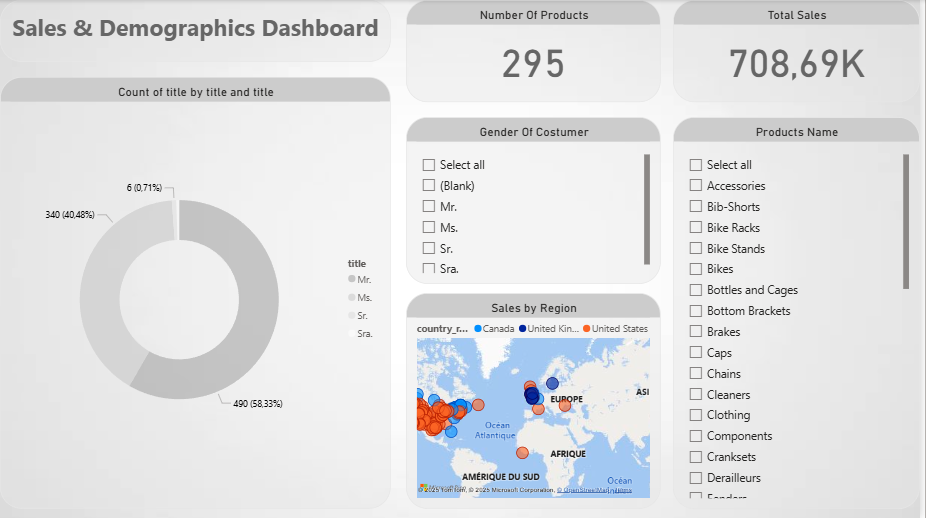

This screenshot's page, from the dashboard's own definition file:
{"tool":"powerbi","page":{"name":"Page 1","canvas":[1280,720],"ordinal":0},"visuals":[{"type":"card","title":"Number Of Products","fields":{"Values":["CountNonNull(Product.product_id)"]},"box":[564.3,0,354.4,141.8],"z":1000},{"type":"card","title":"Total Sales","fields":{"Values":["Sum(SalesOrderDetail.line_total)"]},"box":[935.4,0,343.3,141.8],"z":2000},{"type":"donutChart","fields":{"Category":["Customer.title"],"Y":["CountNonNull(Customer.title)"],"Series":["Customer.title"]},"box":[0,107.5,543.3,600],"z":3000},{"type":"slicer","title":"Gender Of Costumer","fields":{"Values":["Customer.title"]},"box":[564.3,162.6,354.4,232.1],"z":4000},{"type":"slicer","title":"Products Name","fields":{"Values":["ProductCategory.name"]},"box":[935.4,162.6,343.3,544.9],"z":5000},{"type":"map","title":"Sales by Region","fields":{"Category":["Address.city"],"Size":["Sum(SalesOrderDetail.line_total)"],"Series":["Address.country_region"]},"box":[564.3,407.3,354.4,300.2],"z":5001},{"type":"textbox","box":[0,0,543.5,86.2],"z":5002}]}

Visuals, with their boxes in screenshot pixels (x1, y1, x2, y2), scaled from the page's 1280x720 canvas onto the 926x518 screenshot:
"Number Of Products" card: [x1=408, y1=0, x2=665, y2=102]
"Total Sales" card: [x1=677, y1=0, x2=925, y2=102]
donutChart - Customer.title x CountNonNull(Customer.title): [x1=0, y1=77, x2=393, y2=509]
"Gender Of Costumer" slicer: [x1=408, y1=117, x2=665, y2=284]
"Products Name" slicer: [x1=677, y1=117, x2=925, y2=509]
"Sales by Region" map: [x1=408, y1=293, x2=665, y2=509]
textbox: [x1=0, y1=0, x2=393, y2=62]
